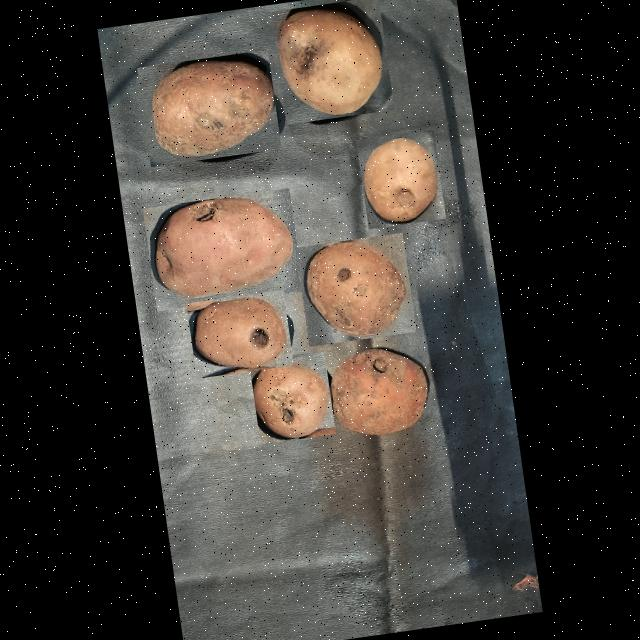Diseased-fungal potato: (142, 187, 304, 311), (137, 49, 282, 166), (271, 0, 394, 123), (296, 232, 416, 346), (320, 338, 438, 443), (186, 289, 294, 378), (356, 128, 446, 228), (249, 349, 336, 444)
